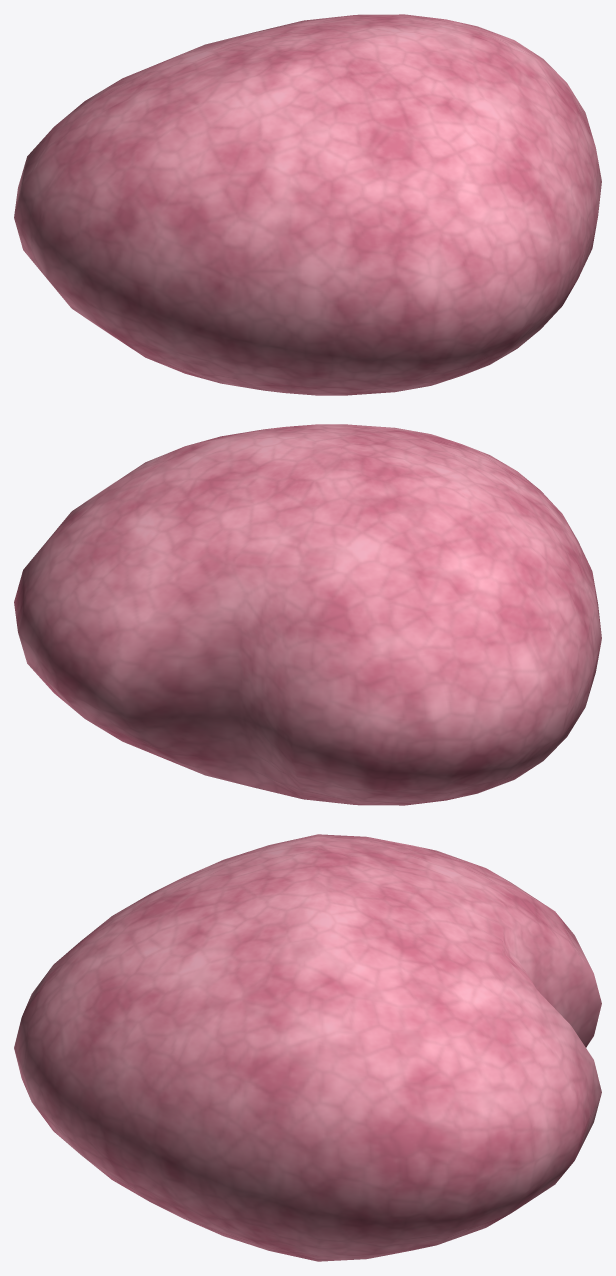
File: TongueTip.fbx
The picture shows the model from 3 angles, top to bottom: view 1: azimuth 30°, elevation 25°; view 2: azimuth 150°, elevation 25°; view 3: azimuth 270°, elevation 25°; orthographic projection. The views are drawn at different scales.
Visible parts, largest first — view 1: TongueTip; view 2: TongueTip; view 3: TongueTip.
Part boxes in pixels (x1,y1,x2,y2): TongueTip: (14,14,601,395); TongueTip: (14,424,601,805); TongueTip: (14,834,601,1261).
Size of the model in its own units: 105 by 62 by 96.7.
Materials: 1 (1 with a texture image).
